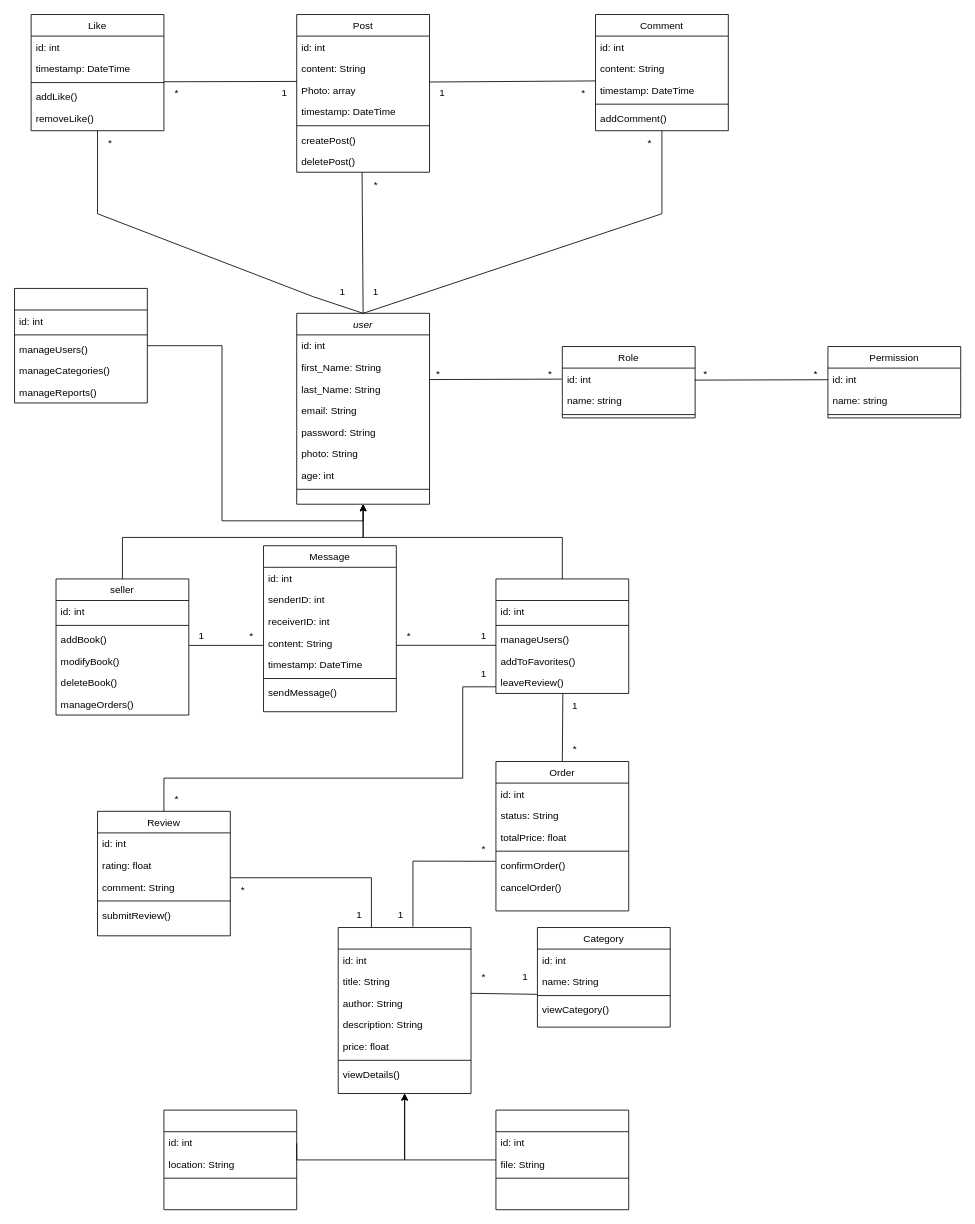
This 975x1224 diagram has some shape labels left out. Here are the shapes that lost their labels. From the top down, the box of each, then its label:
(14, 288, 147, 403): admin
(495, 578, 629, 693): buyer
(337, 927, 471, 1094): Book
(163, 1109, 297, 1210): PhysicalBook
(495, 1109, 629, 1210): ElectronicBook
